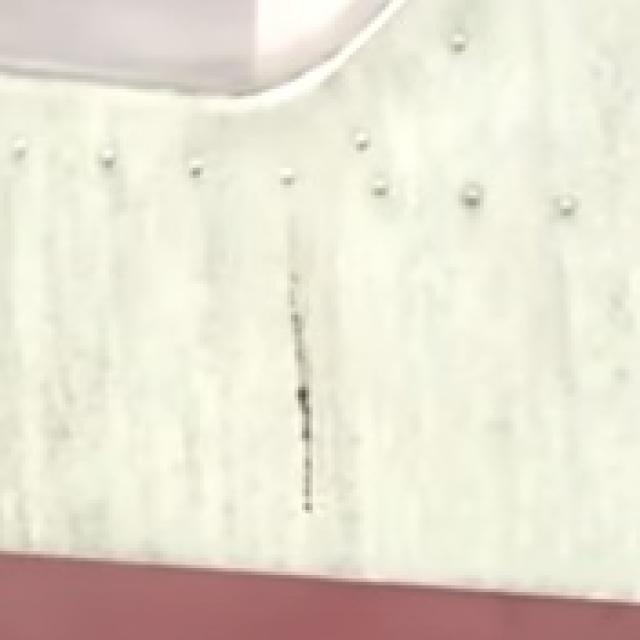crack: (285, 292, 351, 539)
